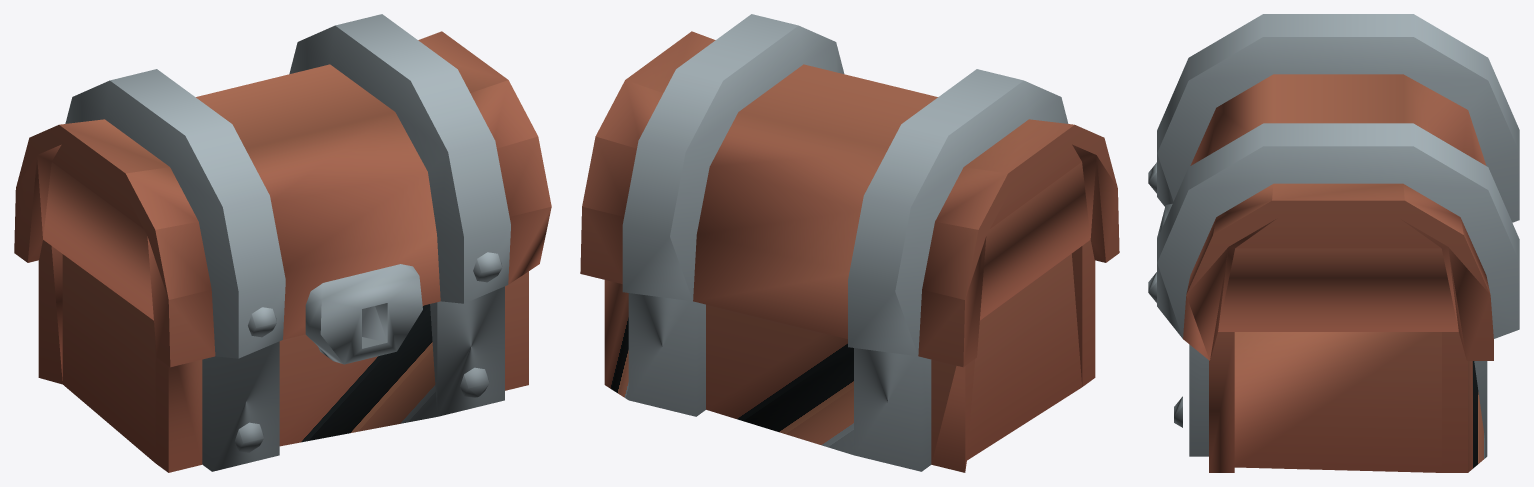
File: chest-mid.glb
3 views of the same model, side by side, from view 1: azimuth 30°, elevation 25°; view 2: azimuth 150°, elevation 25°; view 3: azimuth 270°, elevation 25° (orthographic).
Parts seen in each view (by area): view 1: chest_lid, chest; view 2: chest_lid, chest; view 3: chest_lid, chest.
Part boxes in pixels (x1,y1,x2,y2): chest_lid: (14, 14, 551, 367); chest: (38, 240, 528, 472); chest_lid: (580, 14, 1119, 367); chest: (604, 240, 1095, 472); chest_lid: (1148, 14, 1519, 360); chest: (1174, 332, 1487, 472).
Bounding box in the file's own units: 1.7 × 1.3 × 1.43.
1 material, 1 textured.
